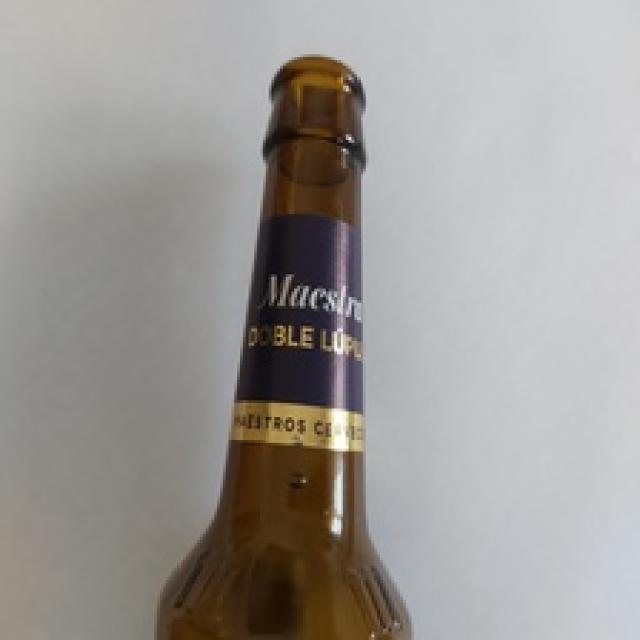Glass: (160, 51, 413, 640)
